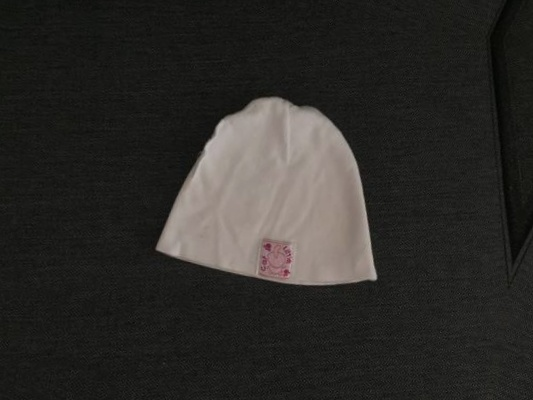Hat: (152, 50, 419, 313)
